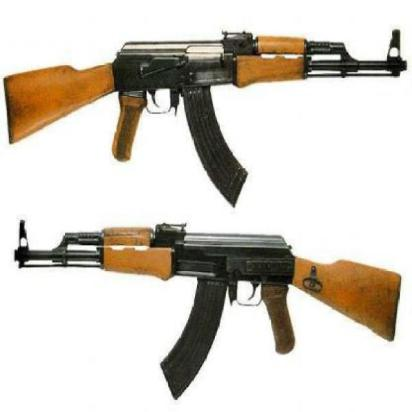Gun: (4, 29, 406, 201), (14, 222, 403, 395)
